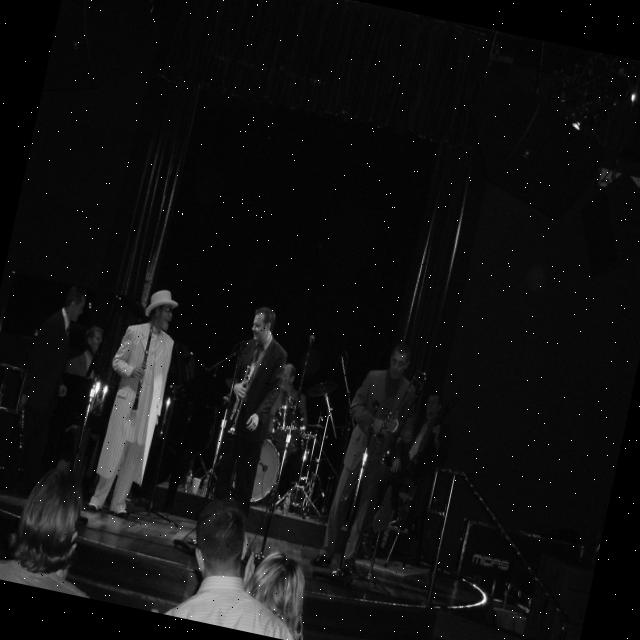clarinet: (129, 324, 157, 414)
drums: (248, 368, 357, 526)
